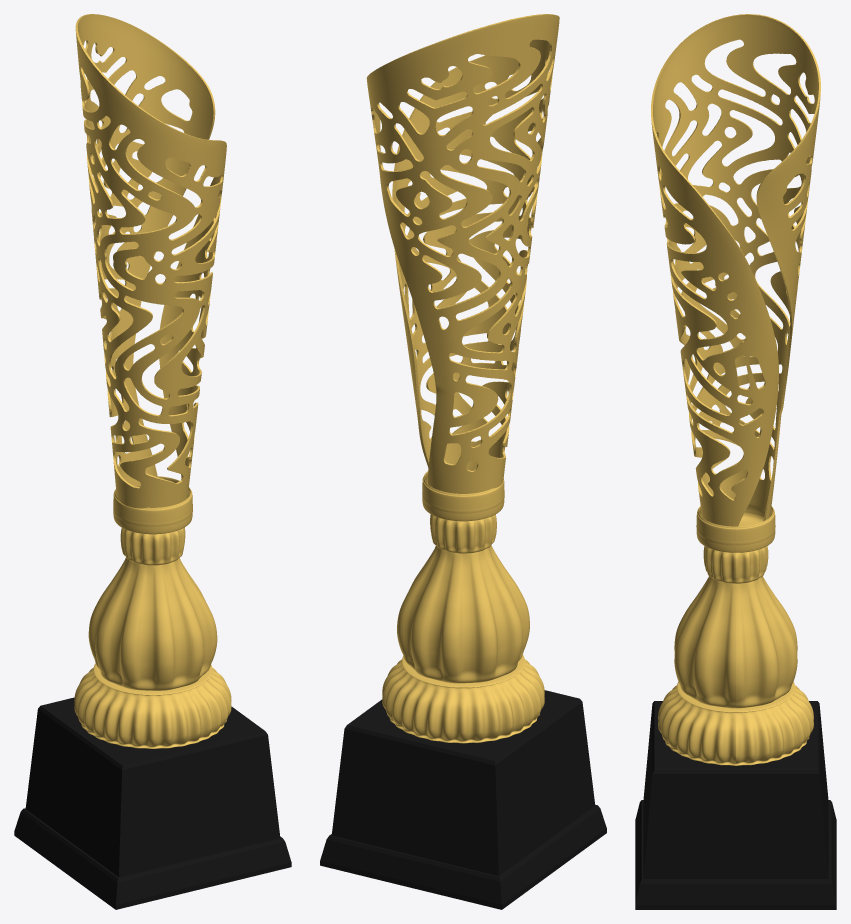
Rendered from Cup.glb.
3 renders of one model, left to right at view 1: azimuth 30°, elevation 25°; view 2: azimuth 150°, elevation 25°; view 3: azimuth 270°, elevation 25°, orthographic. The views are drawn at different scales.
Visible parts, largest first — view 1: cup, base.003, stem, skirt, base.001, base.004, socket, knob, base.002, base; view 2: cup, base.003, stem, skirt, base.001, base.004, socket, knob, base.002, base; view 3: cup, base.003, stem, skirt, base.001, base.004, socket, knob, base.002, base.
Part boxes in pixels (x1,y1,x2,y2): cup: [75, 14, 226, 508]; base.003: [25, 709, 280, 877]; stem: [88, 558, 217, 690]; skirt: [74, 663, 231, 748]; base.001: [14, 812, 291, 904]; base.004: [38, 697, 267, 770]; socket: [113, 476, 192, 534]; knob: [120, 527, 185, 565]; base.002: [21, 808, 284, 882]; base: [14, 831, 291, 909]; cup: [366, 14, 559, 493]; base.003: [331, 702, 595, 876]; stem: [397, 545, 529, 683]; skirt: [382, 655, 544, 743]; base.001: [320, 808, 606, 904]; base.004: [345, 690, 582, 765]; socket: [422, 471, 504, 521]; knob: [430, 514, 496, 553]; base.002: [326, 805, 600, 881]; base: [320, 828, 606, 909]; cup: [651, 14, 820, 526]; base.003: [643, 706, 828, 878]; stem: [674, 576, 797, 708]; skirt: [658, 681, 813, 765]; base.001: [635, 802, 836, 904]; base.004: [652, 701, 819, 773]; socket: [696, 504, 775, 552]; knob: [703, 546, 768, 583]; base.002: [640, 800, 831, 883]; base: [635, 905, 836, 909].
Size of the model in its own units: 0.0896 by 0.4035 by 0.0896.
